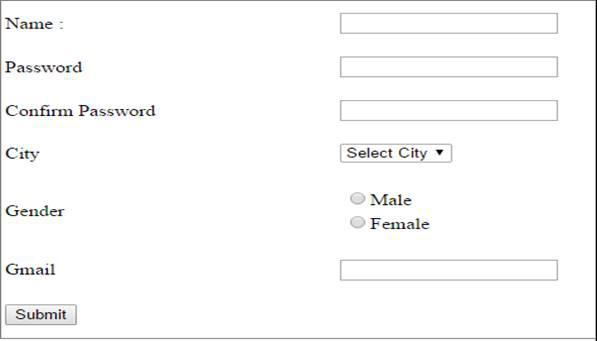button: (6, 304, 79, 328)
dropdown: (342, 144, 454, 164)
input: (341, 259, 561, 282), (340, 57, 559, 80), (341, 14, 561, 35), (343, 101, 558, 122)
label: (1, 102, 159, 120), (1, 58, 84, 77), (2, 16, 73, 36), (370, 216, 431, 234), (1, 204, 69, 220), (1, 262, 58, 278), (370, 192, 413, 211), (1, 147, 47, 162)
radio: (350, 193, 366, 207), (351, 216, 367, 230)
